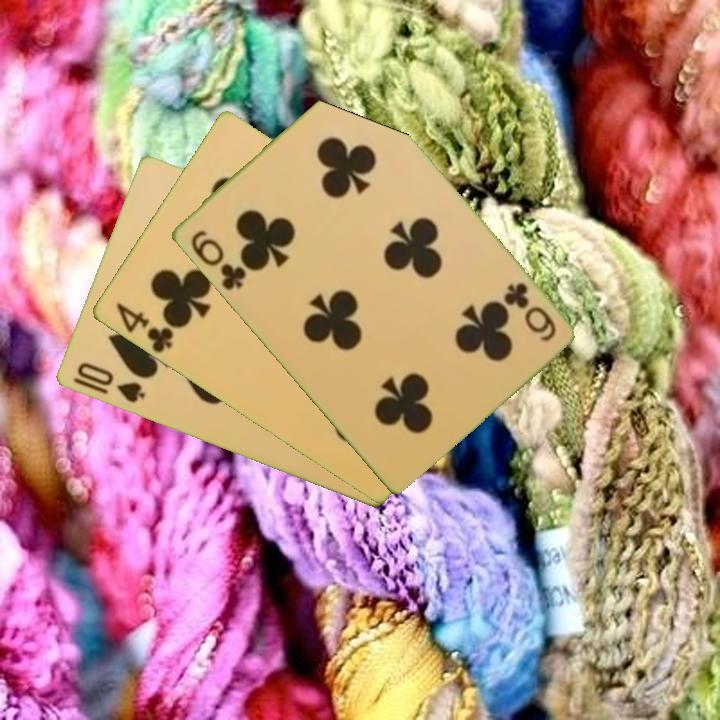10s: (73, 359, 148, 406)
4c: (111, 299, 176, 357)
6c: (186, 226, 249, 293), (499, 278, 559, 345)
